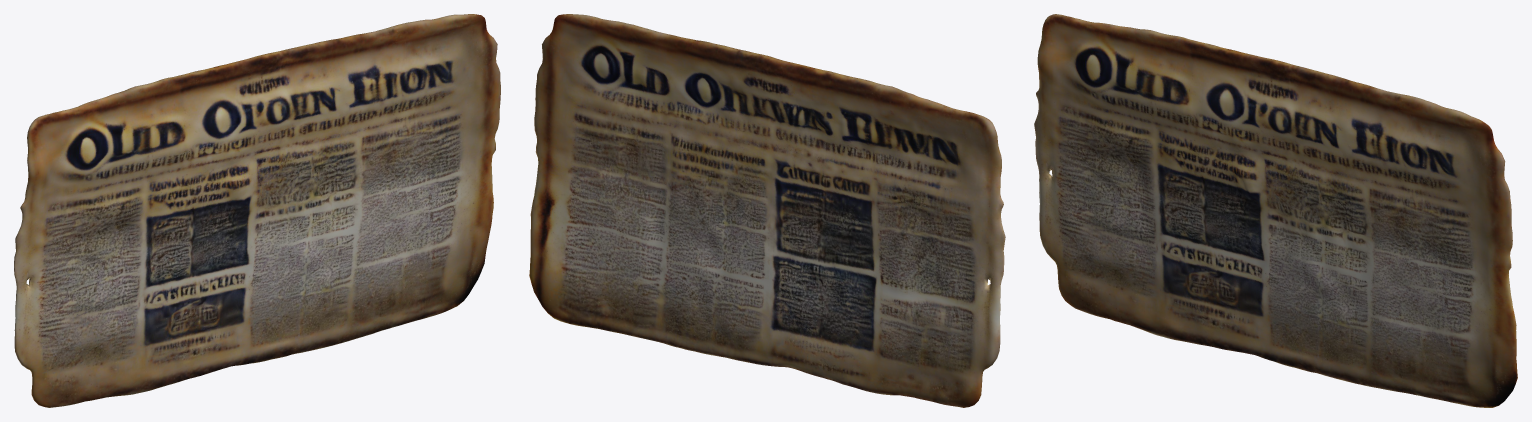
File: 210491c36474_old_brown_newspaper.fbx
The picture shows the model from 3 angles, left to right: view 1: azimuth 30°, elevation 25°; view 2: azimuth 150°, elevation 25°; view 3: azimuth 330°, elevation 25°; orthographic projection. The views are drawn at different scales.
Visible parts, largest first — view 1: mesh; view 2: mesh; view 3: mesh.
Boxes of the visible parts, x1,y1,x2,y2 form: mesh: (14, 14, 500, 407); mesh: (529, 14, 1005, 407); mesh: (1034, 14, 1517, 407).
Bounding box in the file's own units: 99.81 × 61.92 × 7.27.
